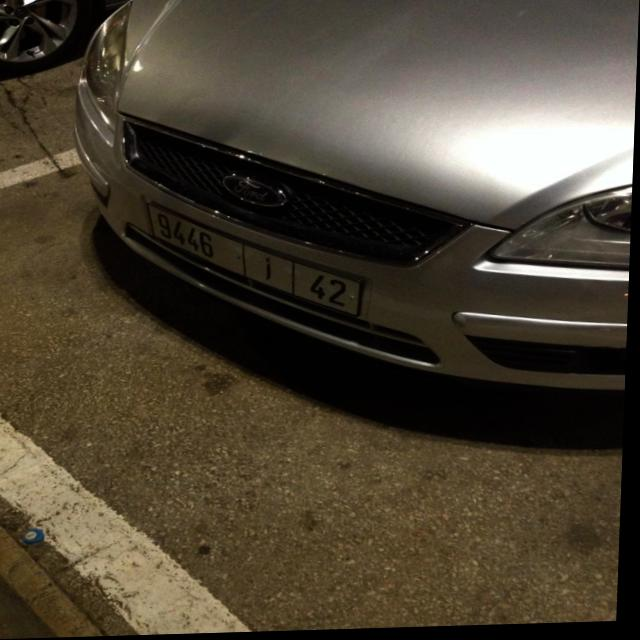License-Plate: (151, 205, 361, 318)
